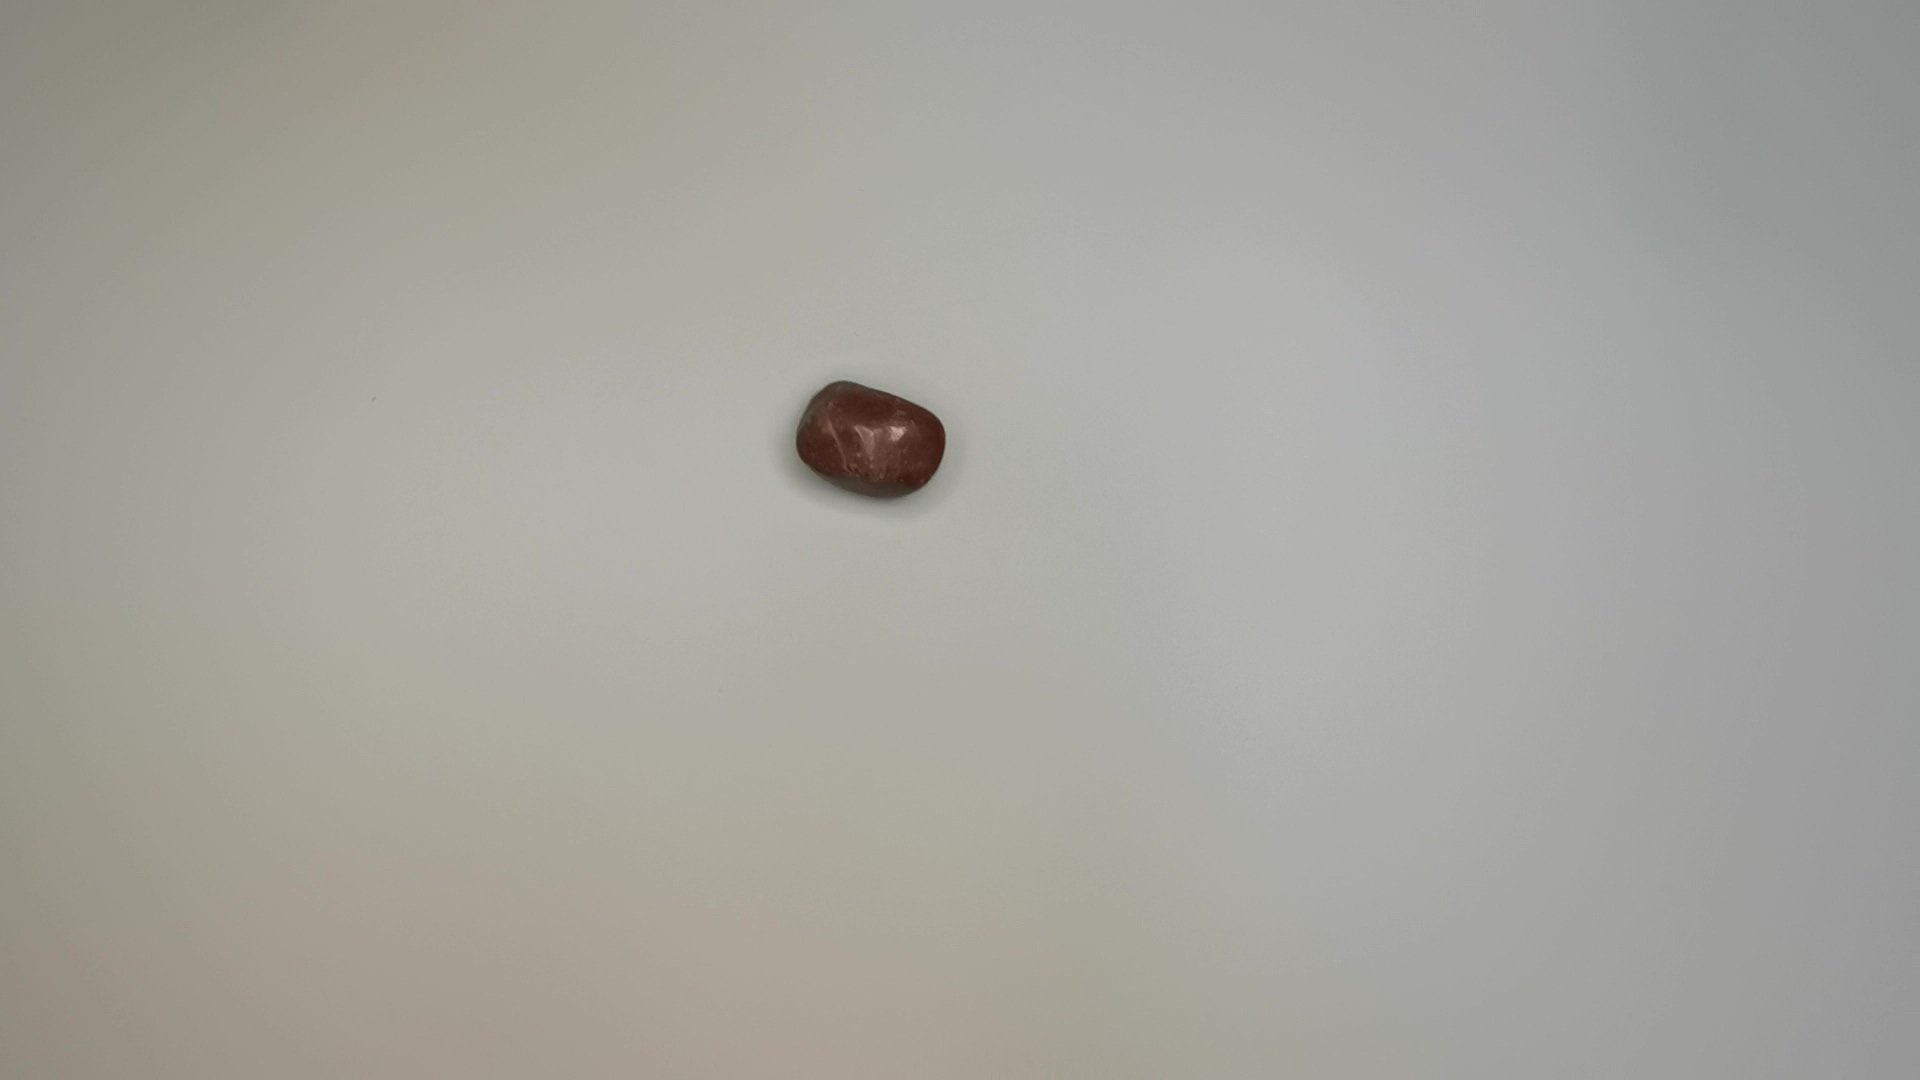ceramic: (789, 380, 955, 505)
